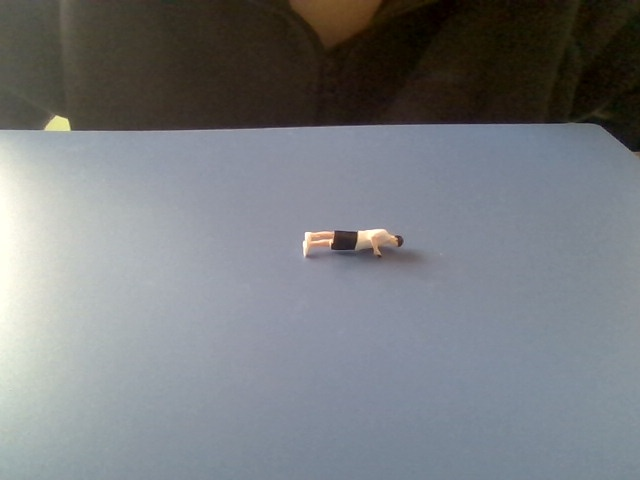fall: (298, 219, 409, 264)
